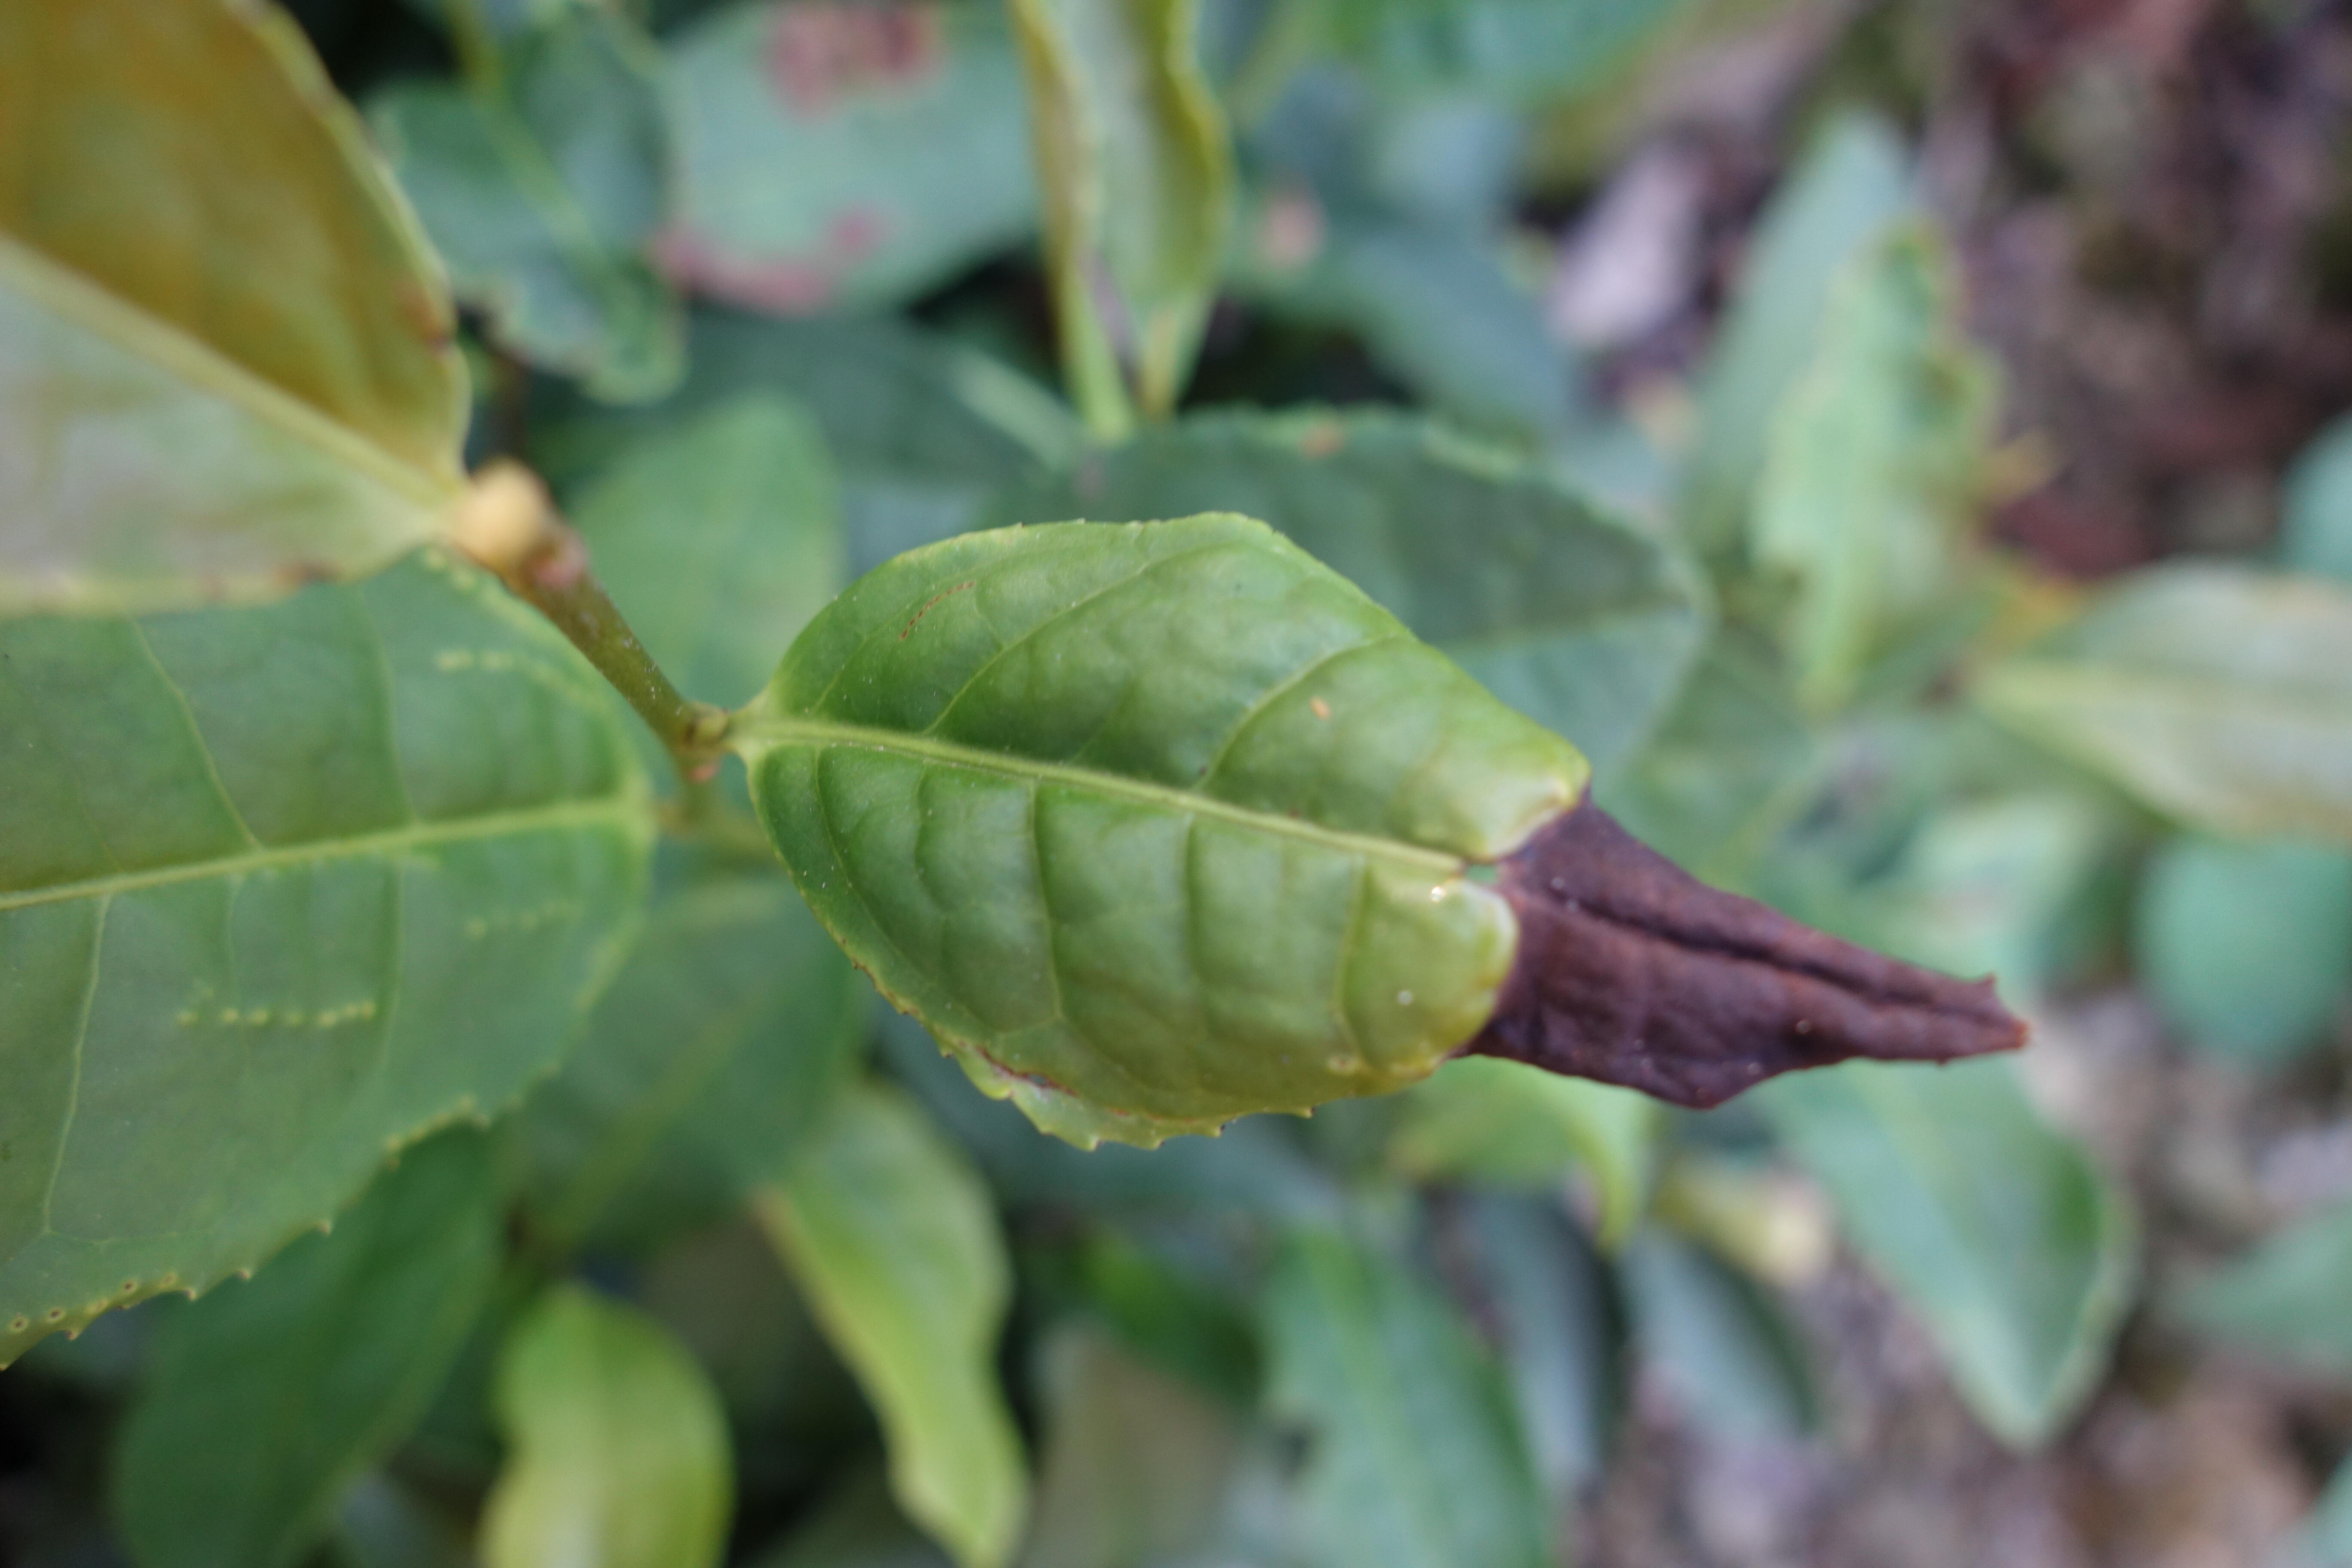tanju_high: (742, 504, 2037, 1155)
tanju_low: (3, 3, 471, 618)
